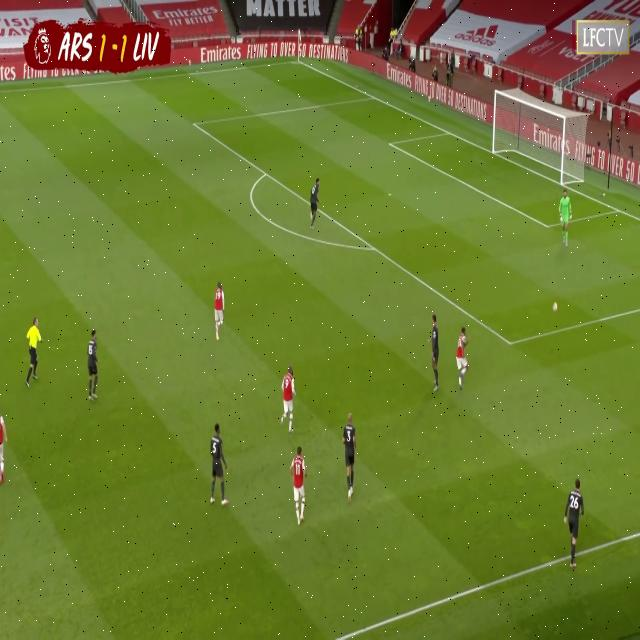Ball: (553, 302, 558, 312)
GoalKeeper: (558, 189, 572, 245)
TEAM 1: (209, 423, 232, 506), (290, 446, 306, 526), (280, 368, 295, 434), (456, 326, 471, 392), (0, 407, 11, 475), (215, 282, 226, 343)
TEAM 2: (565, 479, 586, 570), (342, 415, 358, 503), (84, 330, 100, 404), (428, 314, 442, 394), (310, 178, 322, 228)
